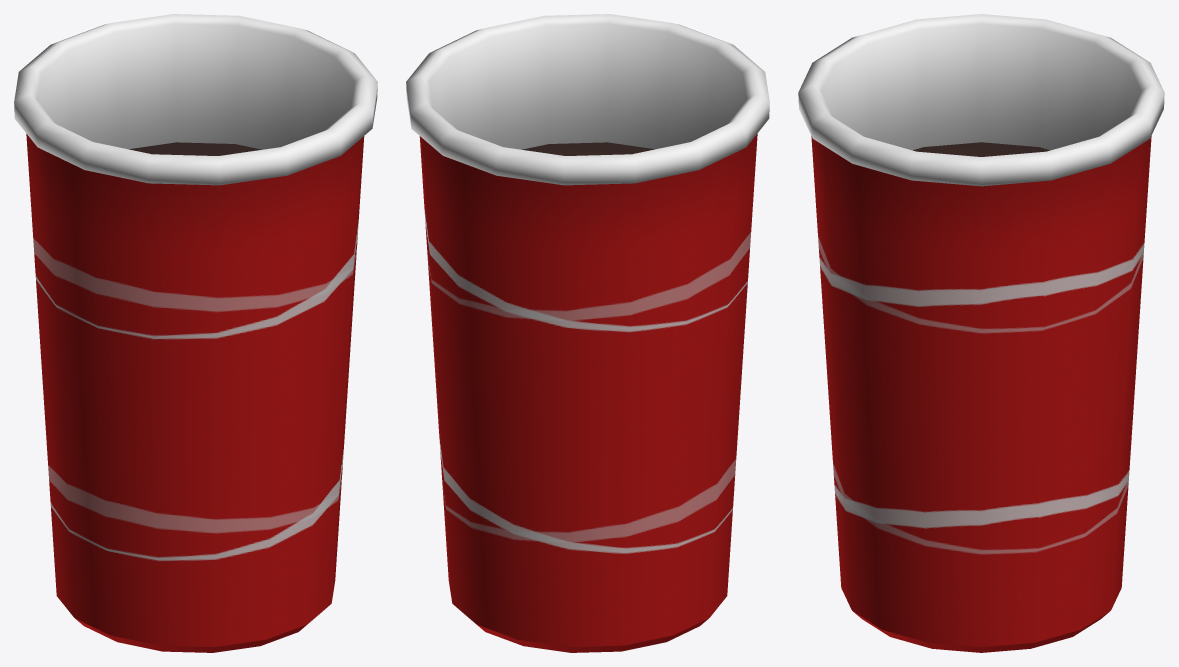
The model's file is CupFull.FBX.
The picture shows the model from 3 angles, left to right: view 1: azimuth 30°, elevation 25°; view 2: azimuth 150°, elevation 25°; view 3: azimuth 270°, elevation 25°; orthographic projection.
Parts seen in each view (by area): view 1: CupFull; view 2: CupFull; view 3: CupFull.
Part boxes in pixels (<box>): CupFull: <box>14,14,377,652</box>; CupFull: <box>406,14,769,652</box>; CupFull: <box>798,14,1164,652</box>.
Bounding box in the file's own units: 10.53 × 16.26 × 10.53.
